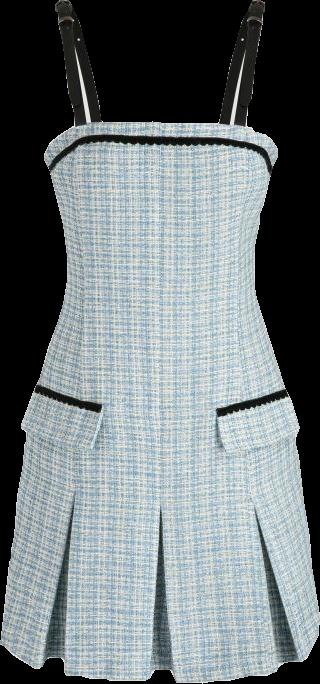Bodice: (44, 0, 277, 290)
Hemline: (0, 630, 319, 683)
Neckline: (62, 0, 258, 126)
Skirt: (1, 291, 319, 682)
